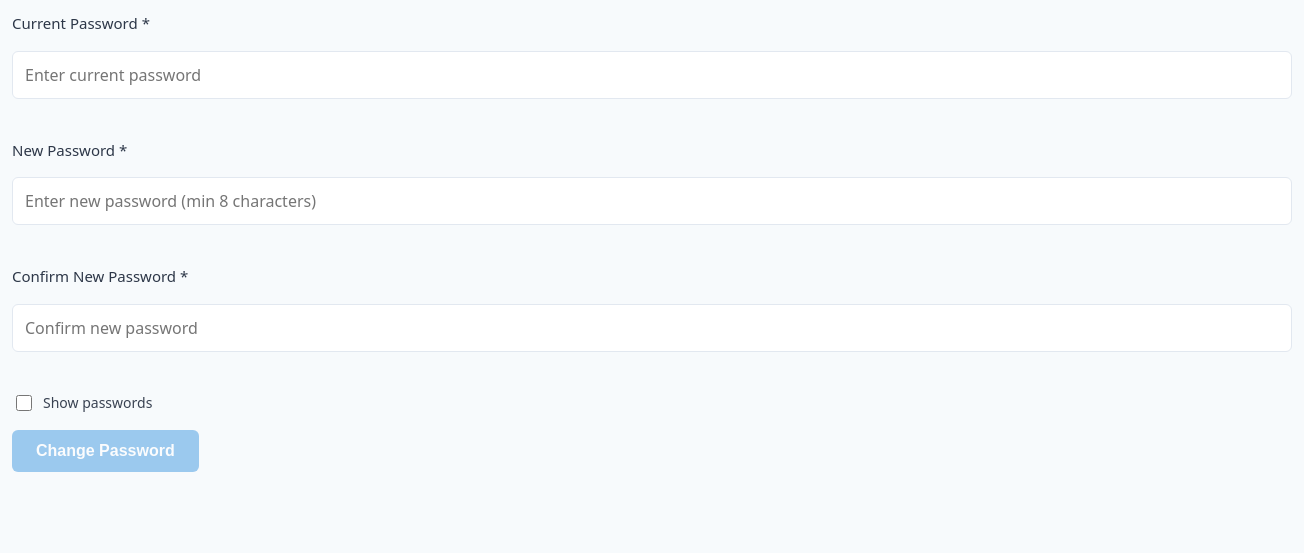
Test: PasswordChangeForm Component › should show error when passwords do not match
In the password field labelled "Current Password *": x=652, y=74 [12,50,1292,98], type "old123456"
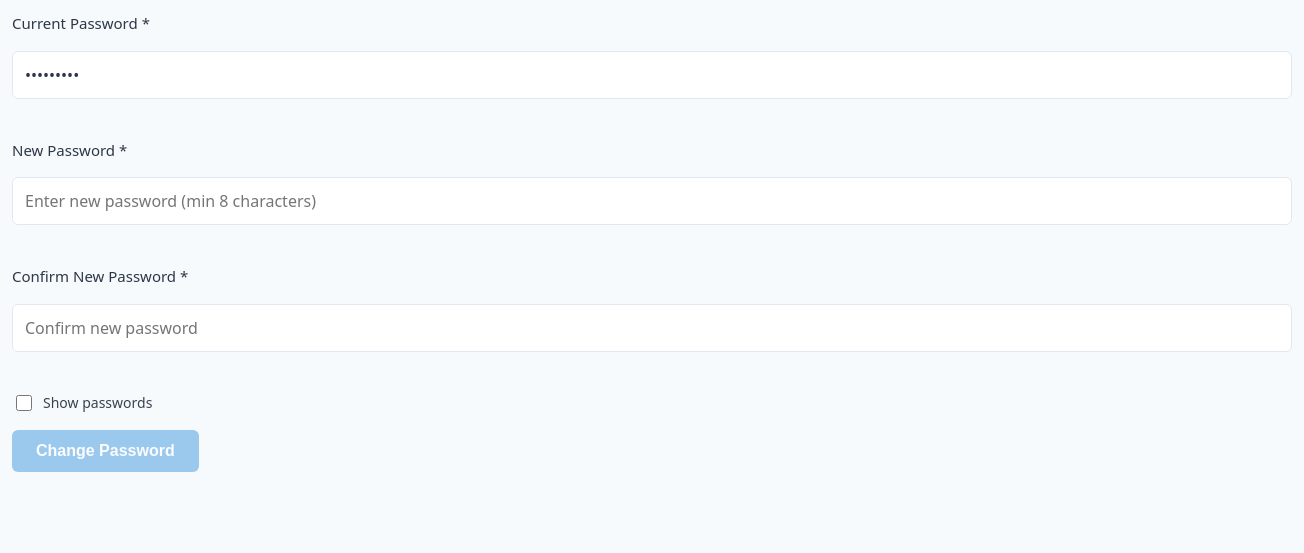
In the password field labelled "New Password *": x=652, y=201 [12,177,1292,225], type "new123456"
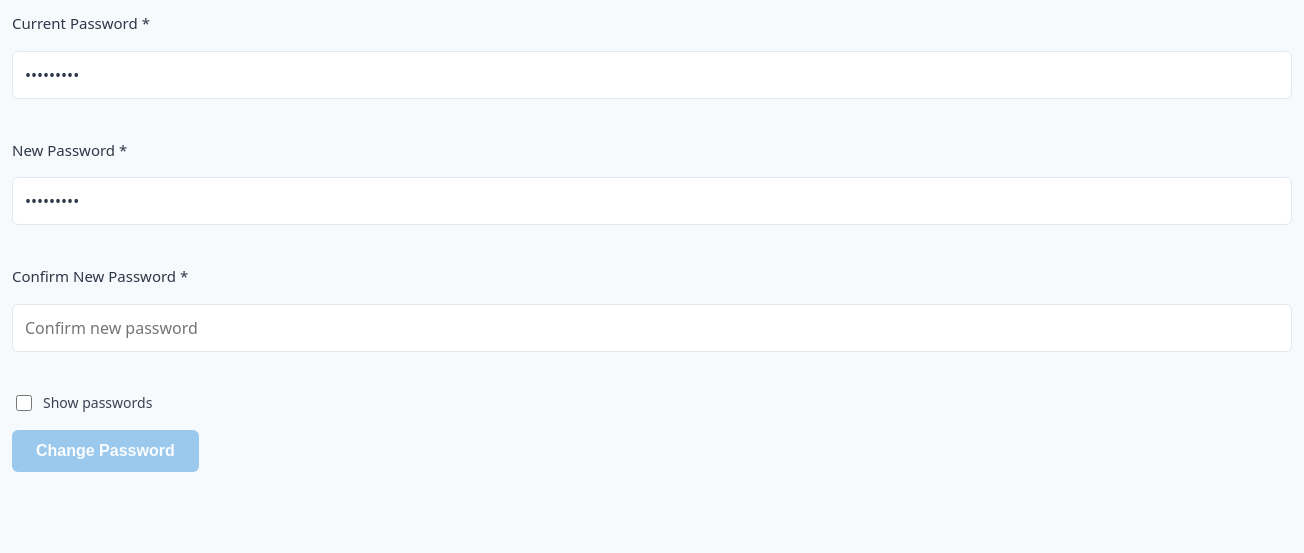
In the password field labelled "Confirm New Password *": x=652, y=328 [12,304,1292,352], type "different123"
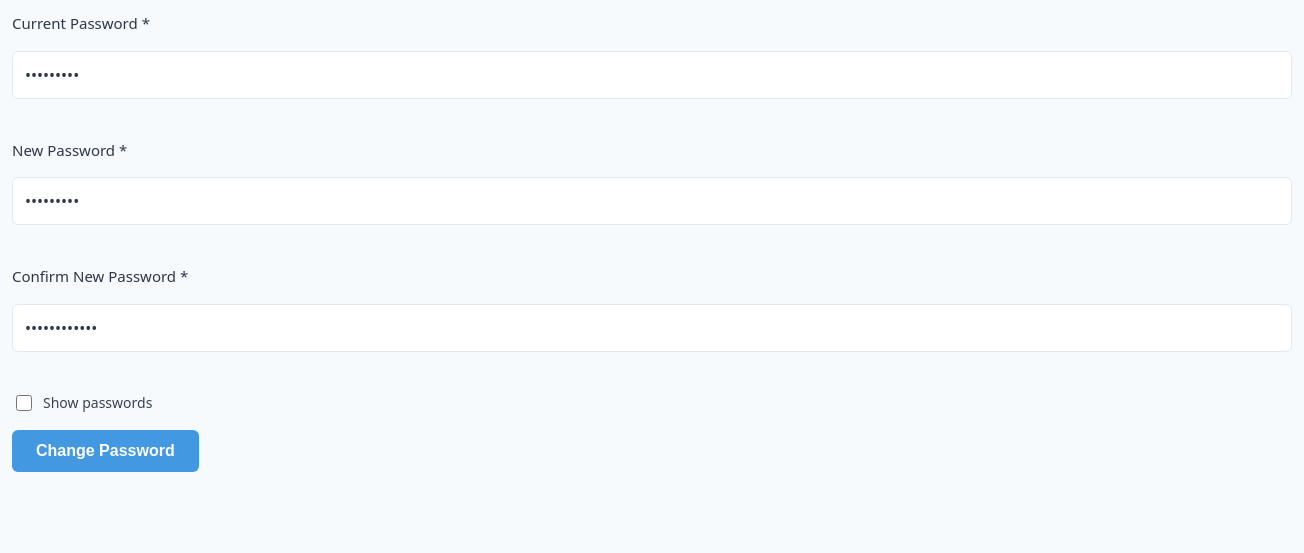
Click the button "Change Password": x=105, y=450 [12,430,199,472]
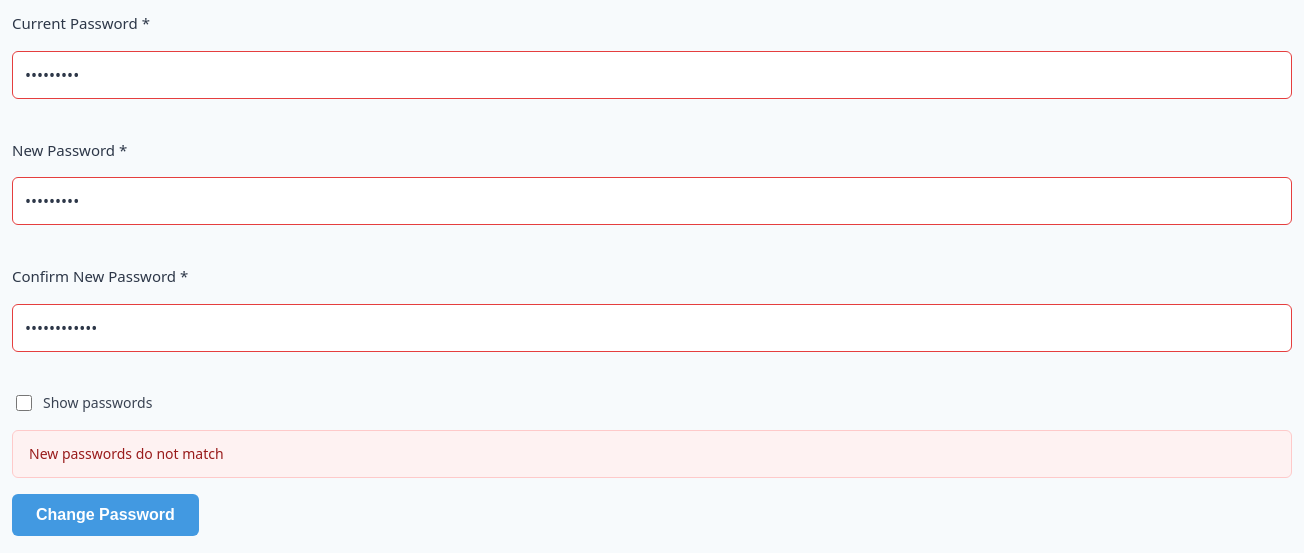
Result: the message reads "New passwords do not match" at [29,444,224,462]
